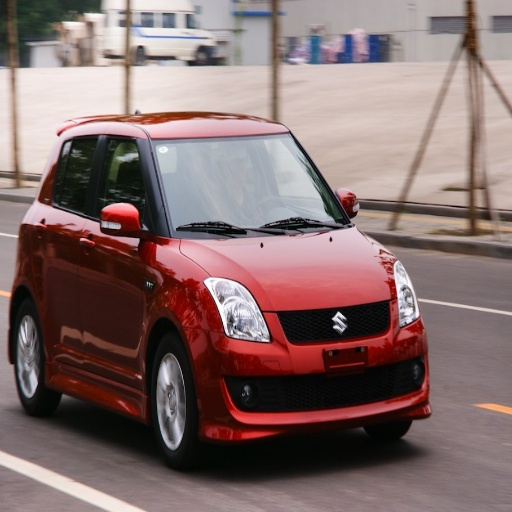back_right_door: (35, 133, 101, 366)
front_bumper: (191, 299, 427, 440)
front_right_door: (79, 133, 157, 383)
front_right_light: (203, 277, 273, 342)
hood: (173, 228, 395, 310)
trunk: (399, 78, 440, 129)
